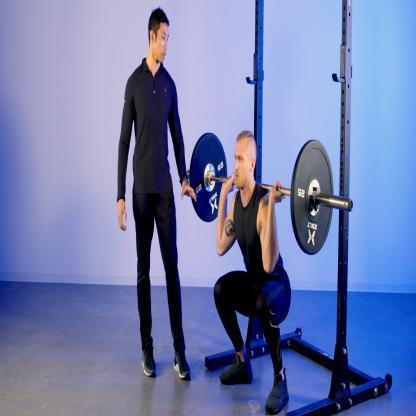barbell: (184, 130, 354, 257)
